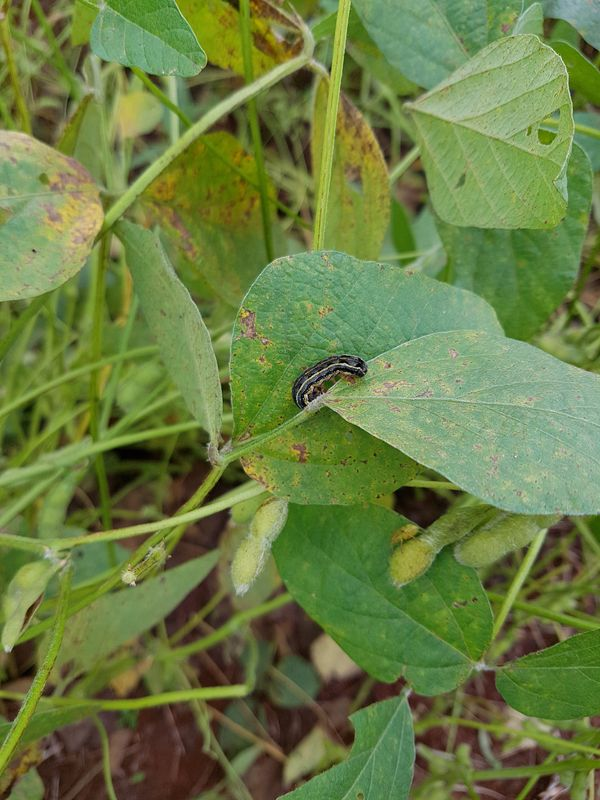Spodoptera_albula: (277, 339, 382, 425)
